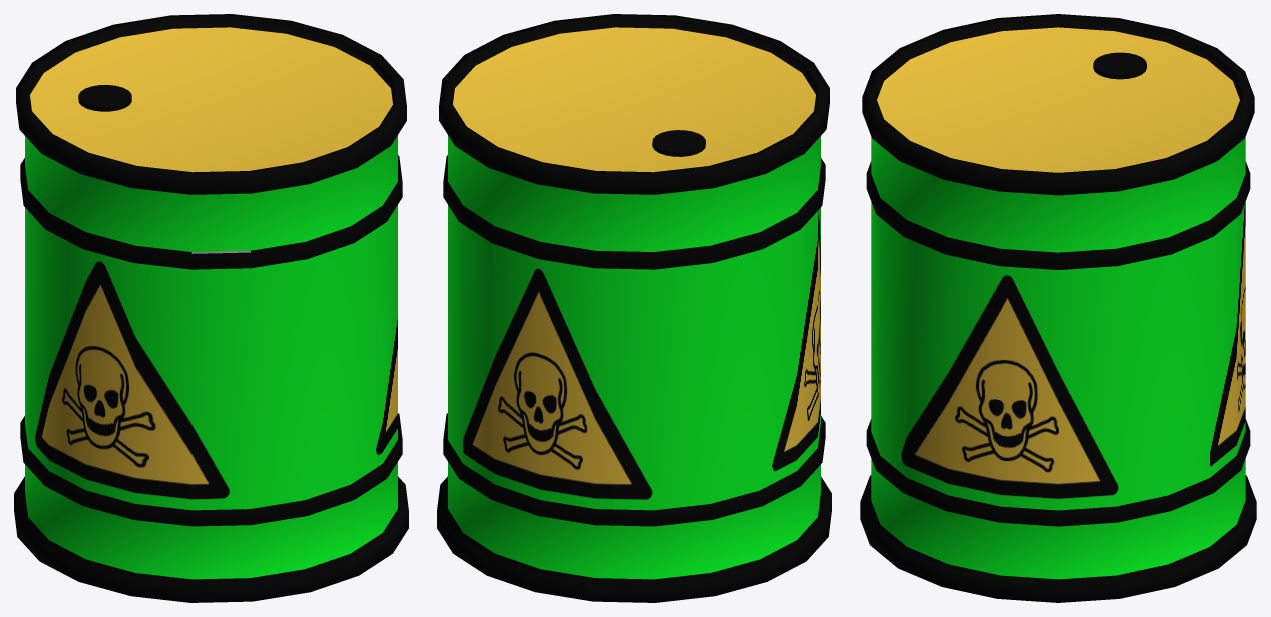
The model's file is ToxicWaste.fbx.
3 renders of one model, left to right at view 1: azimuth 30°, elevation 25°; view 2: azimuth 150°, elevation 25°; view 3: azimuth 270°, elevation 25°, orthographic.
Parts seen in each view (by area): view 1: ToxicBarrel; view 2: ToxicBarrel; view 3: ToxicBarrel.
Part boxes in pixels (bbox=[...]): ToxicBarrel: bbox=[14, 14, 408, 602]; ToxicBarrel: bbox=[437, 14, 831, 602]; ToxicBarrel: bbox=[860, 14, 1256, 602].
Size of the model in its own units: 1.02 by 1.21 by 1.02.
